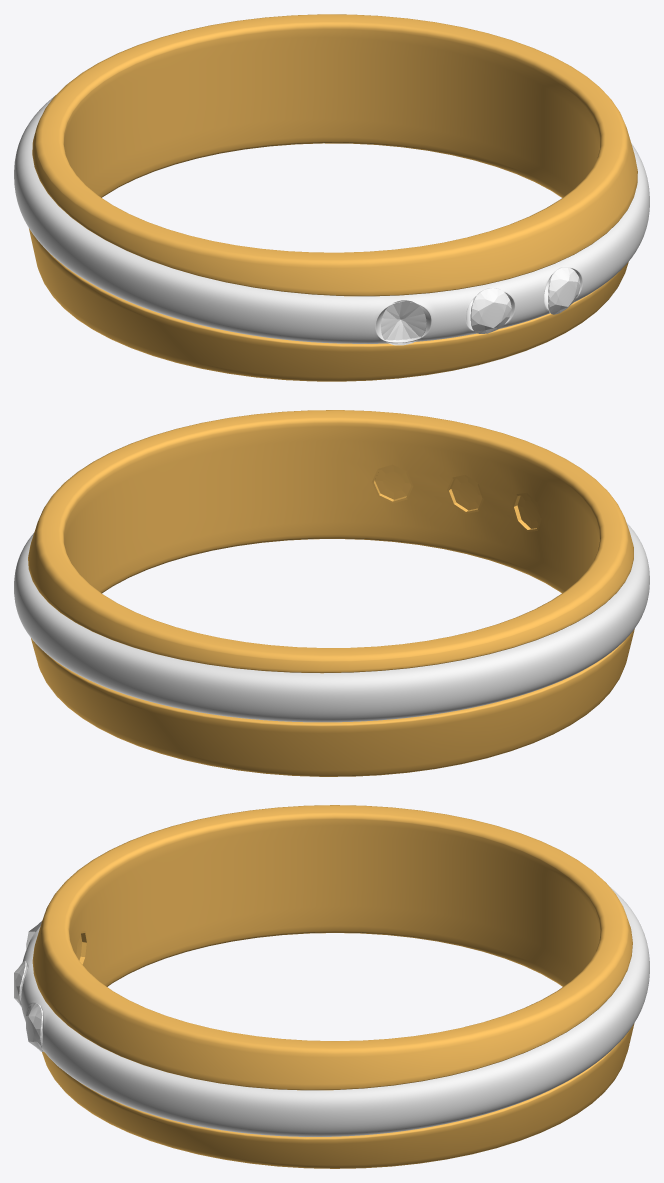
3 views of the same model, one above another, from view 1: azimuth 30°, elevation 25°; view 2: azimuth 150°, elevation 25°; view 3: azimuth 270°, elevation 25° (orthographic).
Visible parts, largest first — view 1: Custom_Metal, Silver_Metal, Diamond_Mesh; view 2: Custom_Metal, Silver_Metal; view 3: Custom_Metal, Silver_Metal, Diamond_Mesh.
Part boxes in pixels (x1,y1,x2,y2): Custom_Metal: (29, 14, 637, 381); Silver_Metal: (14, 96, 649, 343); Diamond_Mesh: (381, 267, 580, 345); Custom_Metal: (28, 410, 634, 776); Silver_Metal: (14, 522, 649, 722); Custom_Metal: (32, 805, 634, 1168); Silver_Metal: (21, 886, 649, 1136); Diamond_Mesh: (14, 921, 42, 1051).
Bounding box in the file's own units: 2.14 × 0.4494 × 2.16.
Materials: 3 (2 with a texture image).
